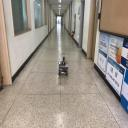cart: (58, 62, 68, 76)
